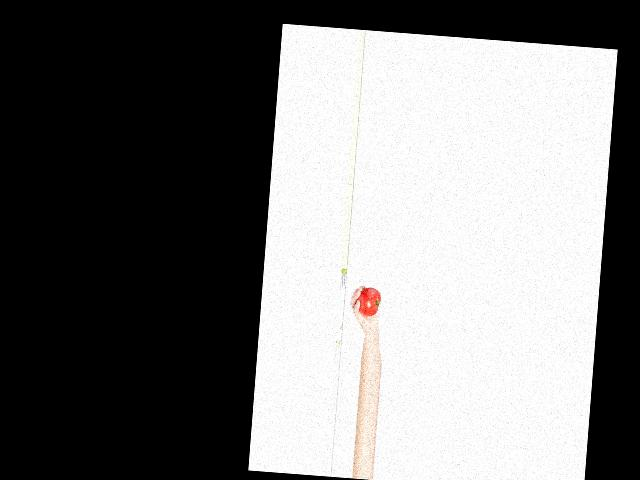tomato: (355, 287, 381, 317)
